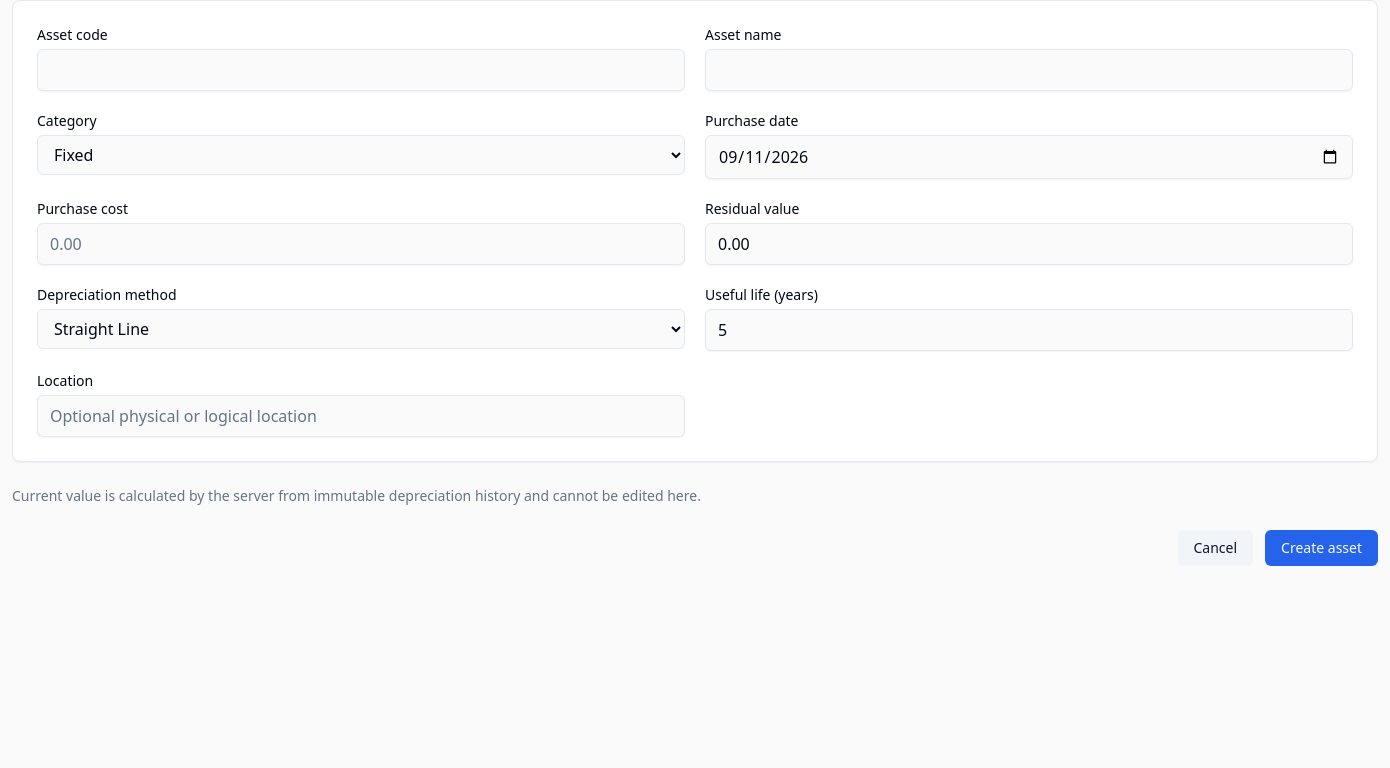
Test case: asset form validation governance › checks asset code length after trimming before applying the character policy
The image size is (1390, 768).
Type " lap-2 " into the field labelled "Asset code" at (361, 70), box top-left (37, 49), bottom-right (685, 91)
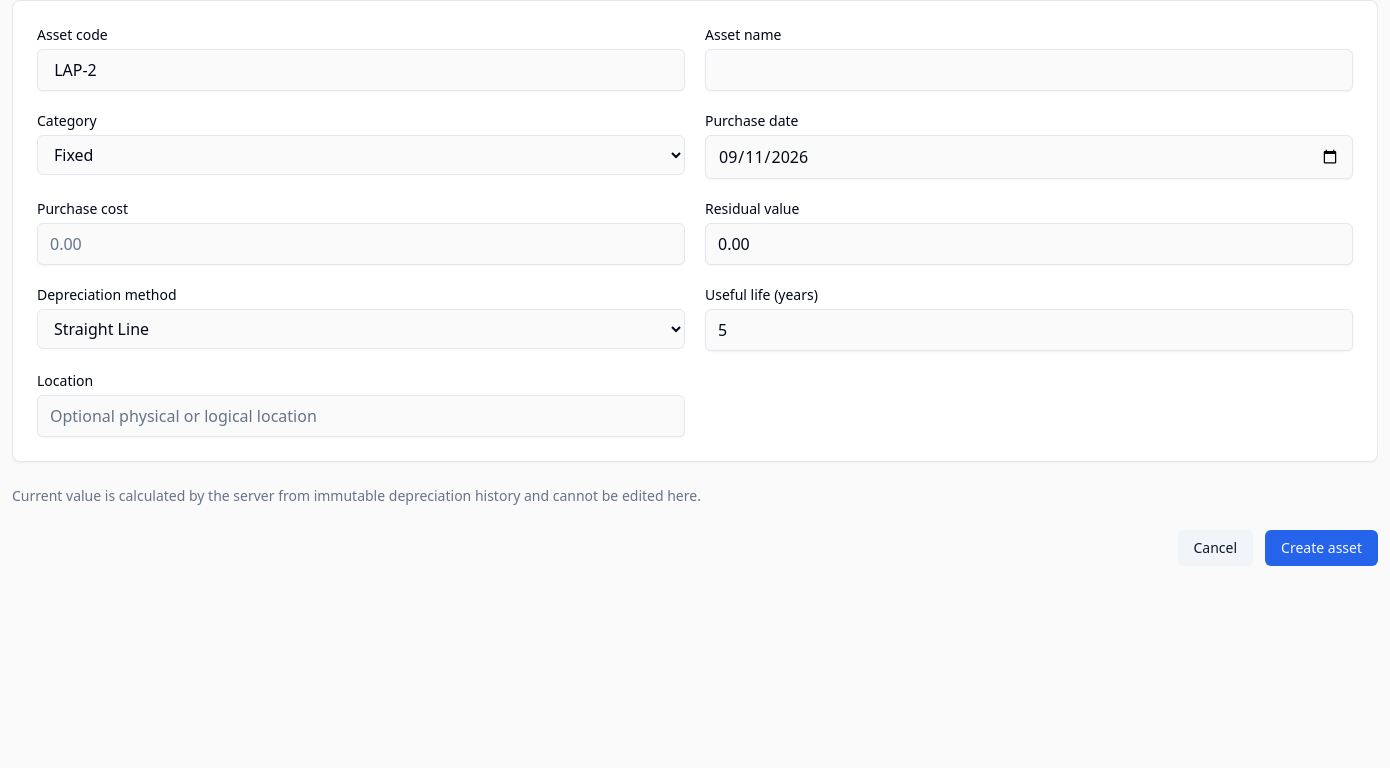
Type "Trimmed code" into the field labelled "Asset name" at (1029, 70), box top-left (705, 49), bottom-right (1353, 91)
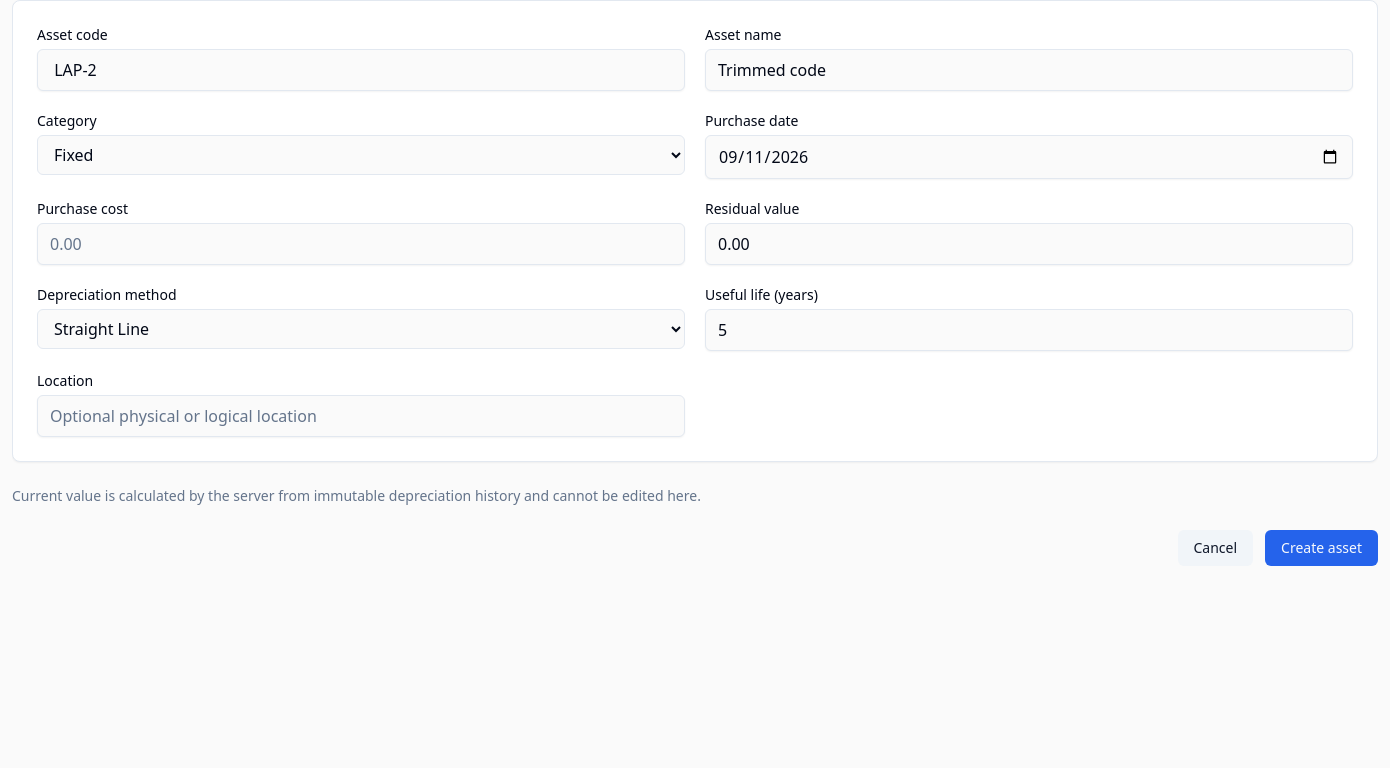
Type "100" into the field labelled "Purchase cost" at (361, 244), box top-left (37, 223), bottom-right (685, 265)
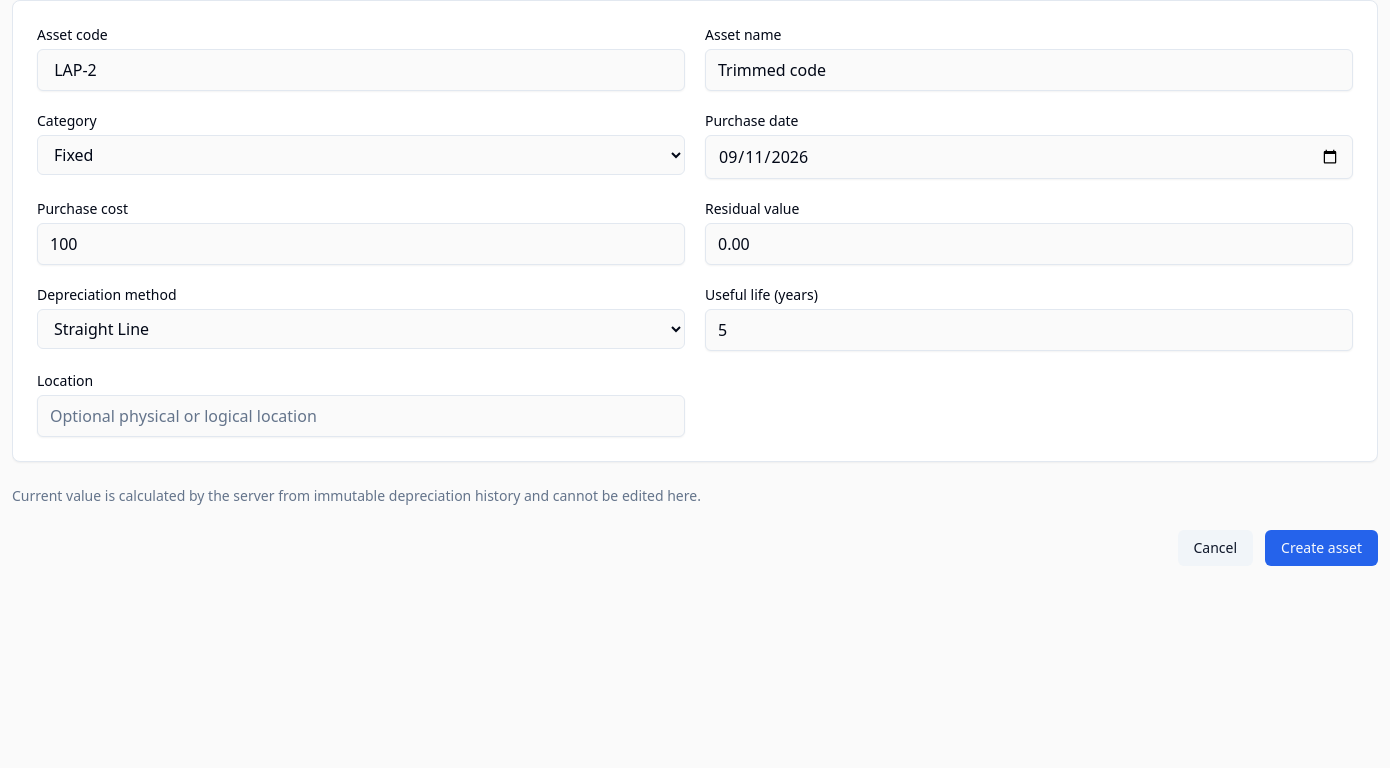
Click the button "Create asset" at (1322, 548), box top-left (1265, 530), bottom-right (1378, 566)
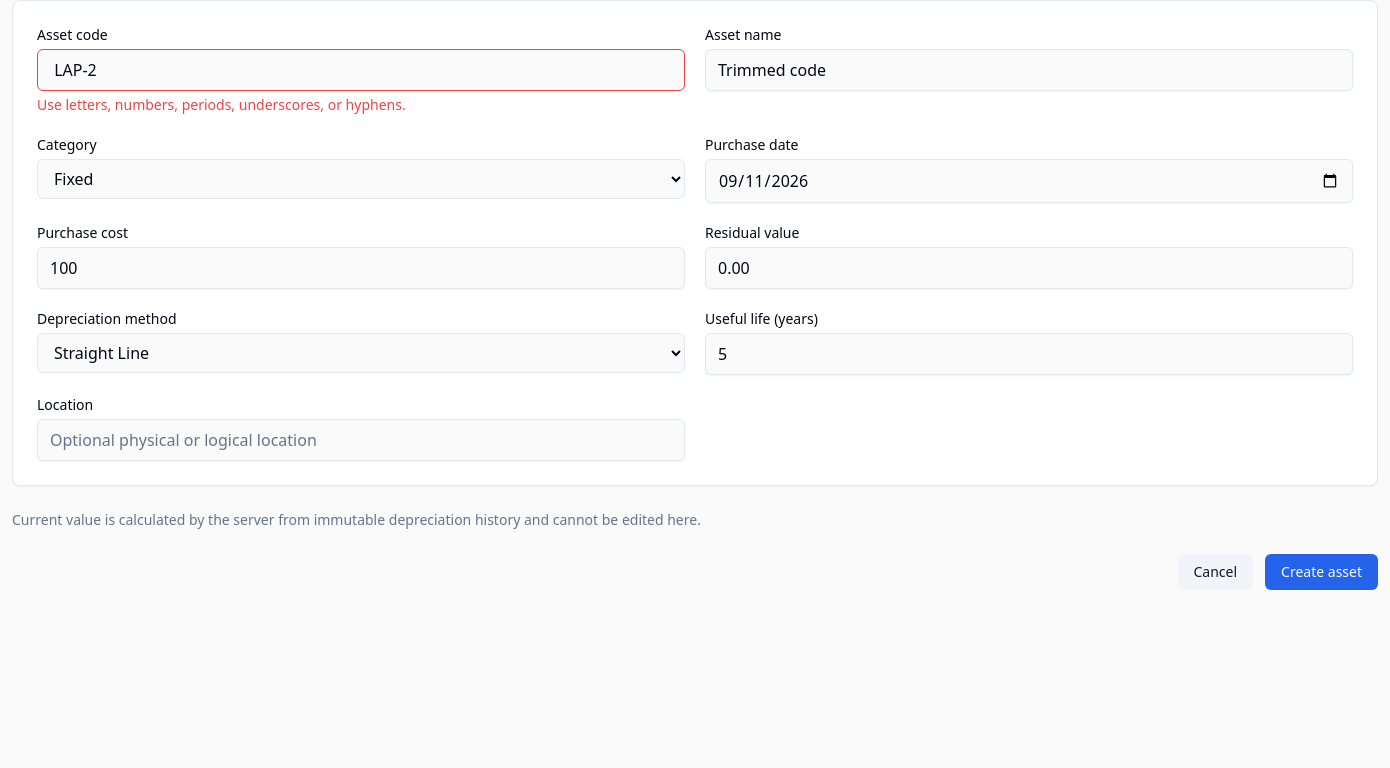
Now the text "Use letters, numbers, periods, underscores, or hyphens." is shown, box top-left (37, 95), bottom-right (406, 114)
